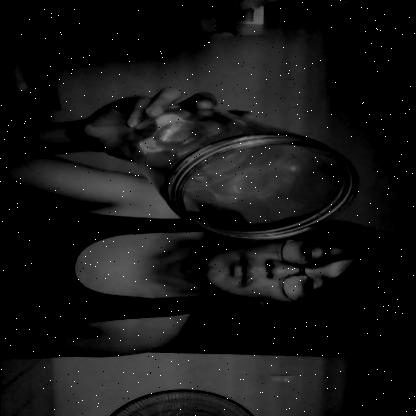Plastic Bottle: (119, 100, 369, 244)
